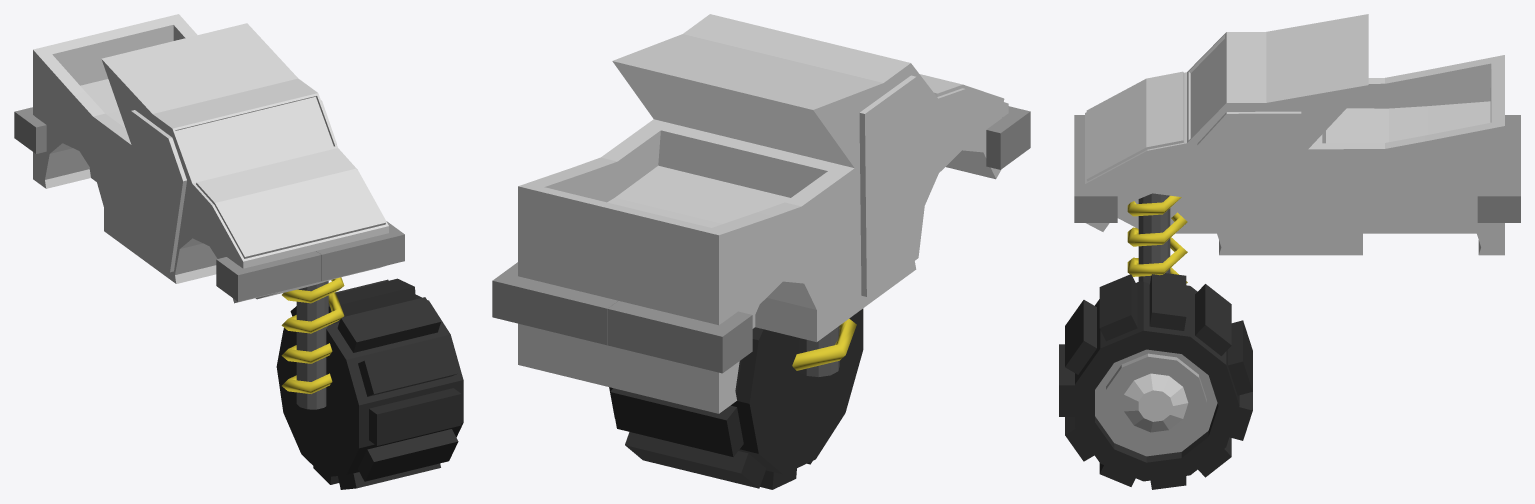
The model's file is new_car.fbx.
3 renders of one model, left to right at view 1: azimuth 30°, elevation 25°; view 2: azimuth 150°, elevation 25°; view 3: azimuth 270°, elevation 25°, orthographic. The views are drawn at different scales.
Visible parts, largest first — view 1: main car, roue.001, hood, porte gauche, bump, suspension.001, Cylinder.001, back bump; view 2: main car, roue.001, porte gauche, back bump, bump, suspension.001, Cylinder.001, hood; view 3: main car, roue.001, porte droite, hood, back bump, suspension.001, bump, Cylinder.001.
Boxes of the visible parts, bbox=[...] form: main car: bbox=[33, 14, 388, 303]; roue.001: bbox=[276, 278, 463, 489]; hood: bbox=[196, 148, 385, 258]; porte gauche: bbox=[131, 110, 186, 272]; bump: bbox=[216, 221, 404, 301]; suspension.001: bbox=[281, 277, 344, 393]; Cylinder.001: bbox=[296, 281, 328, 409]; back bump: bbox=[14, 107, 46, 153]; main car: bbox=[518, 14, 1008, 413]; roue.001: bbox=[609, 308, 863, 489]; porte gauche: bbox=[859, 75, 936, 296]; back bump: bbox=[492, 262, 752, 373]; bump: bbox=[986, 106, 1030, 169]; suspension.001: bbox=[792, 318, 856, 370]; Cylinder.001: bbox=[799, 326, 839, 376]; hood: bbox=[919, 74, 1004, 101]; main car: bbox=[1085, 14, 1504, 255]; roue.001: bbox=[1059, 273, 1252, 489]; porte droite: bbox=[1197, 111, 1301, 247]; hood: bbox=[1086, 71, 1184, 181]; back bump: bbox=[1477, 115, 1520, 222]; suspension.001: bbox=[1127, 195, 1187, 283]; bump: bbox=[1074, 115, 1117, 222]; Cylinder.001: bbox=[1138, 193, 1170, 283].
Size of the model in its own units: 3.1 by 5.49 by 4.93.
